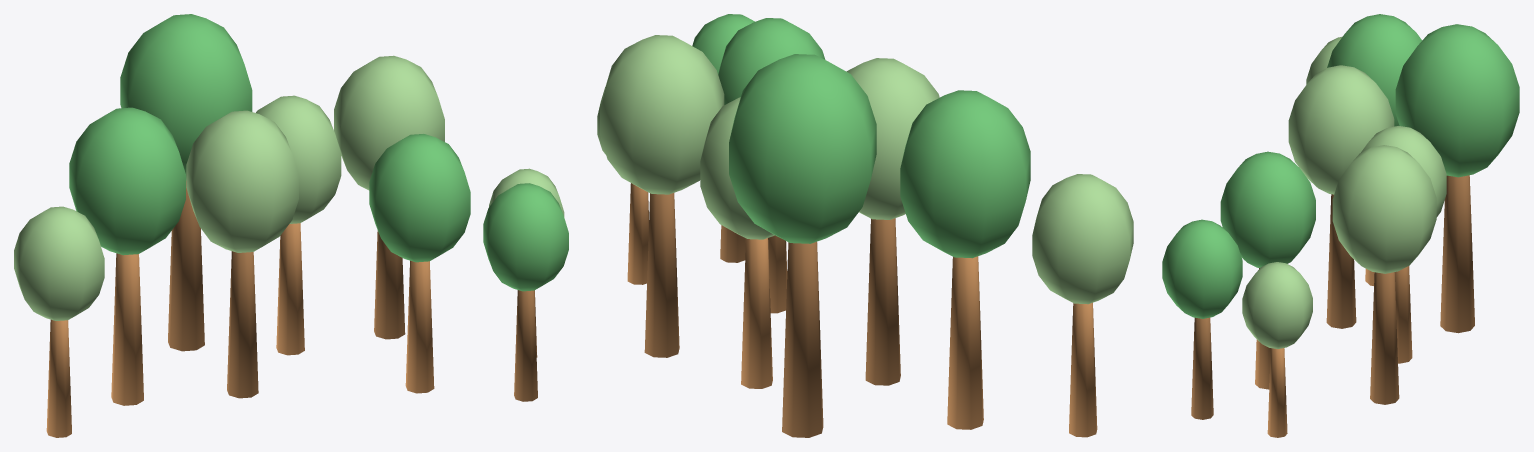
The model's file is trees.glb.
3 views of the same model, side by side, from view 1: azimuth 30°, elevation 25°; view 2: azimuth 150°, elevation 25°; view 3: azimuth 270°, elevation 25° (orthographic). The views are drawn at different scales.
Parts seen in each view (by area): view 1: Plane.016; view 2: Plane.016; view 3: Plane.016.
Part boxes in pixels (box(x1,y1,x2,y2)): Plane.016: box(14, 14, 568, 437); Plane.016: box(597, 14, 1133, 437); Plane.016: box(1162, 14, 1519, 437).
Size of the model in its own units: 9.36 by 5.78 by 6.31.
